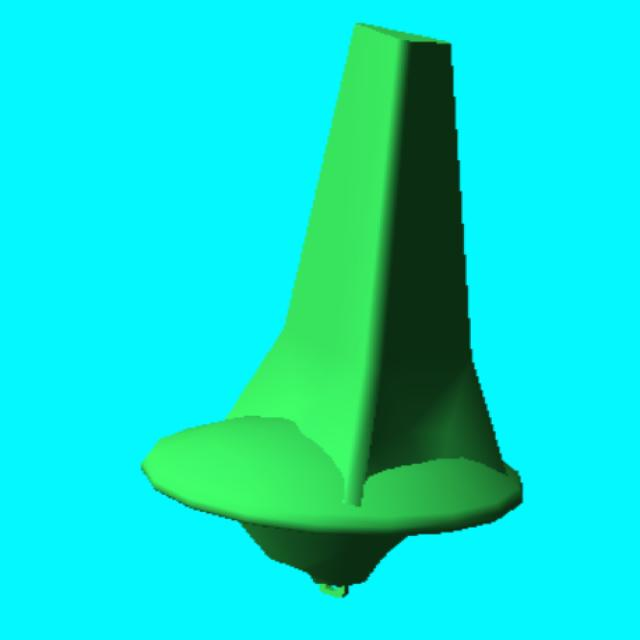GreenBuoy: (143, 22, 522, 588)
